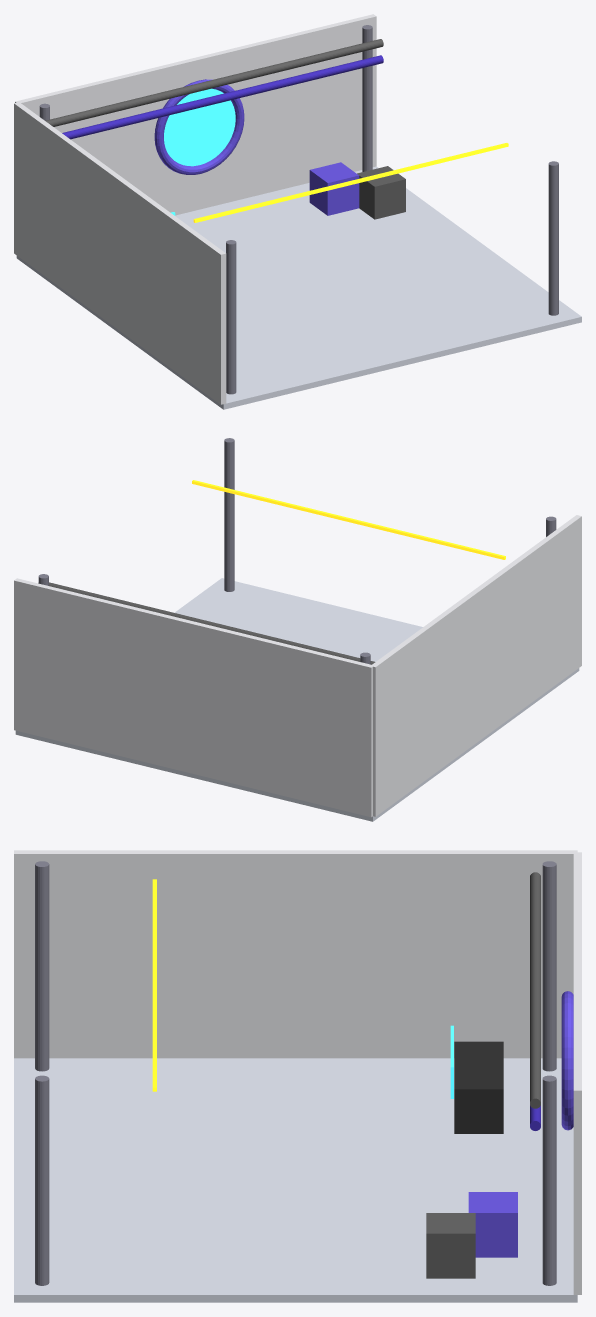
The model's file is space-station-interior.glb.
3 views of the same model, one above another, from view 1: azimuth 30°, elevation 25°; view 2: azimuth 150°, elevation 25°; view 3: azimuth 270°, elevation 25° (orthographic). The views are drawn at different scales.
Size of the model in its own units: 8 by 3.3 by 8.
